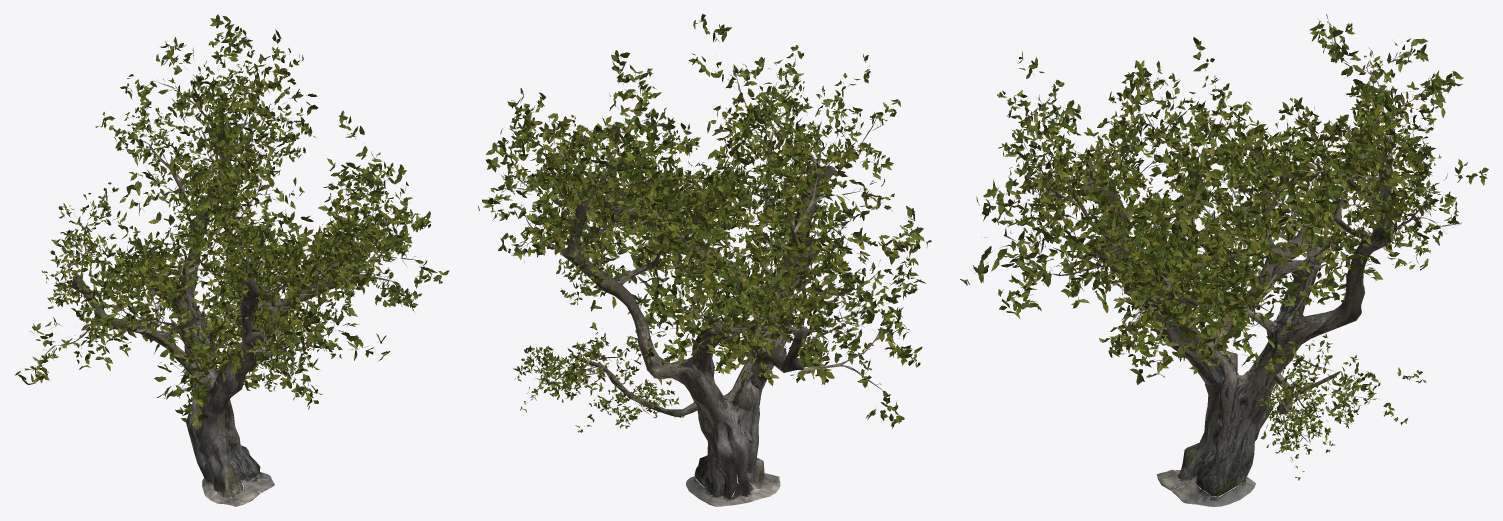
Rendered from island_tree_01.glb.
The picture shows the model from 3 angles, left to right: view 1: azimuth 30°, elevation 25°; view 2: azimuth 150°, elevation 25°; view 3: azimuth 270°, elevation 25°; orthographic projection. The views are drawn at different scales.
Parts seen in each view (by area): view 1: island_tree_01; view 2: island_tree_01; view 3: island_tree_01.
Boxes of the visible parts, x1=… form: island_tree_01: x1=15, y1=14, x2=449, y2=506; island_tree_01: x1=478, y1=14, x2=931, y2=506; island_tree_01: x1=960, y1=14, x2=1488, y2=506.
Bounding box in the file's own units: 4.77 × 5 × 4.81.
Materials: 3 (3 with a texture image).
